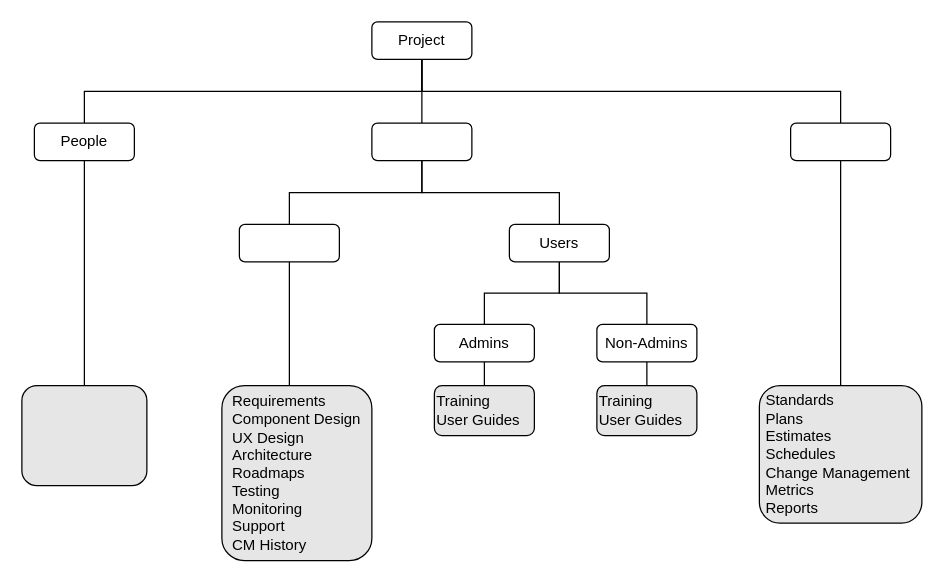
Image size: 944x583. Some labels were removed from this diagram. Here are the shapes that lost their labels. From the top down, the centre of each, then its label:
(421,141): Product
(840,141): Process
(288,242): System
(84,435): Roles Responsibilities Security Onboarding Offboarding
